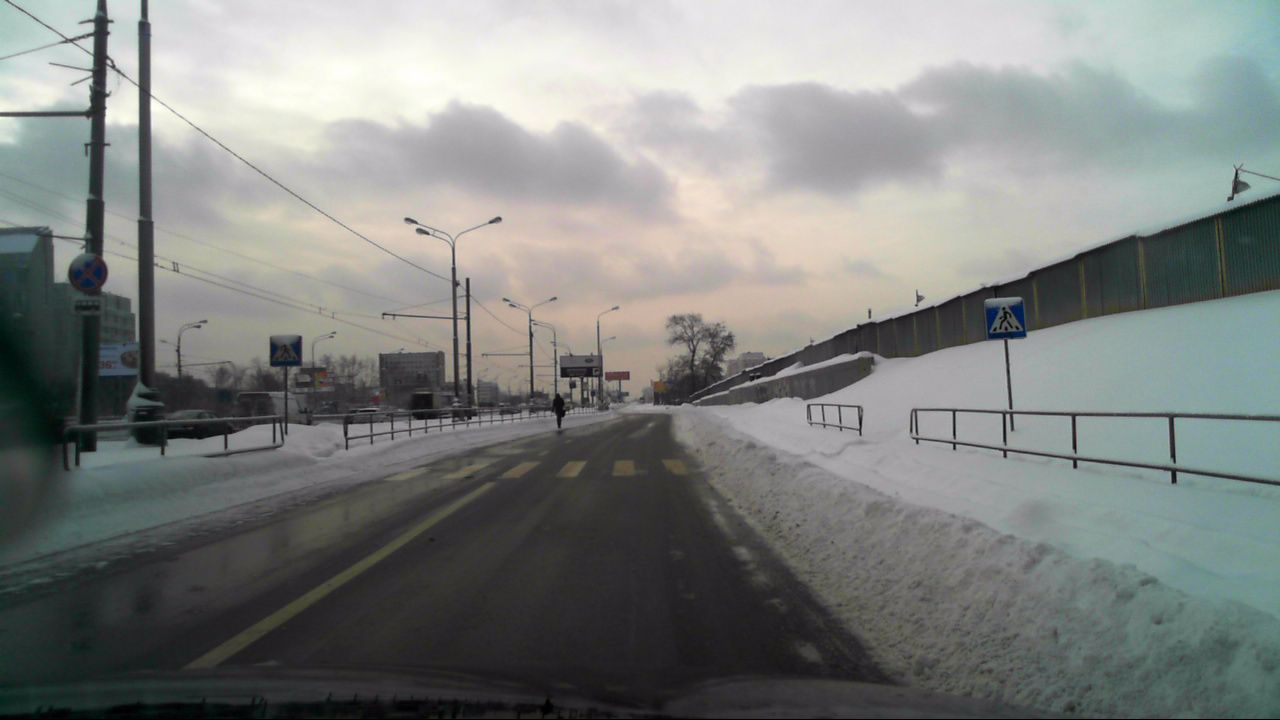No Parking: (67, 251, 110, 293)
